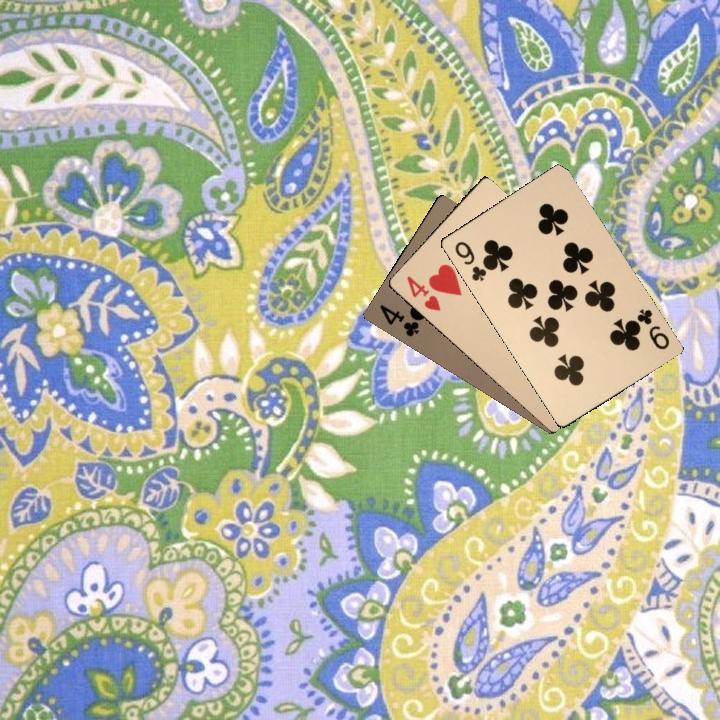4c: (375, 300, 421, 339)
4h: (402, 272, 443, 314)
9c: (450, 237, 491, 284), (633, 305, 672, 352)
